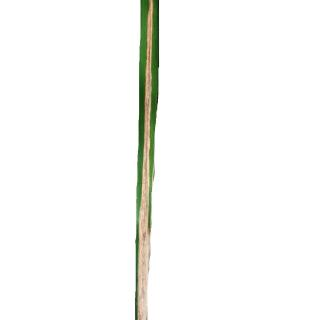Hawar-Daun: (128, 3, 168, 320)
